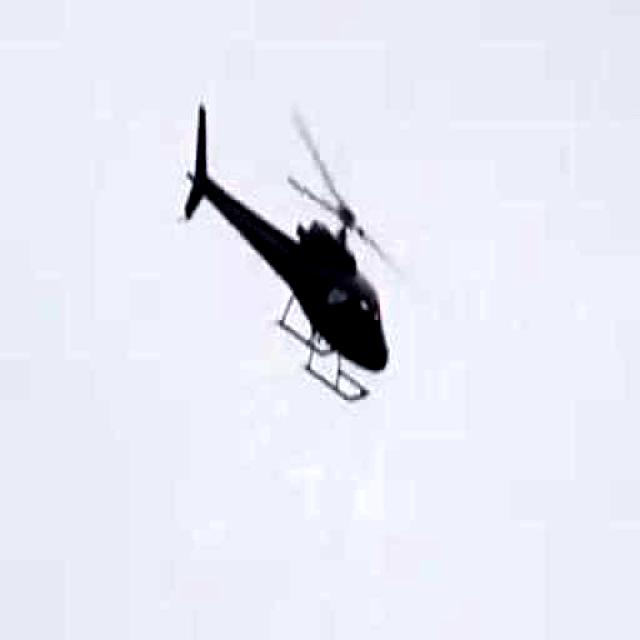drone: (155, 88, 438, 435)
